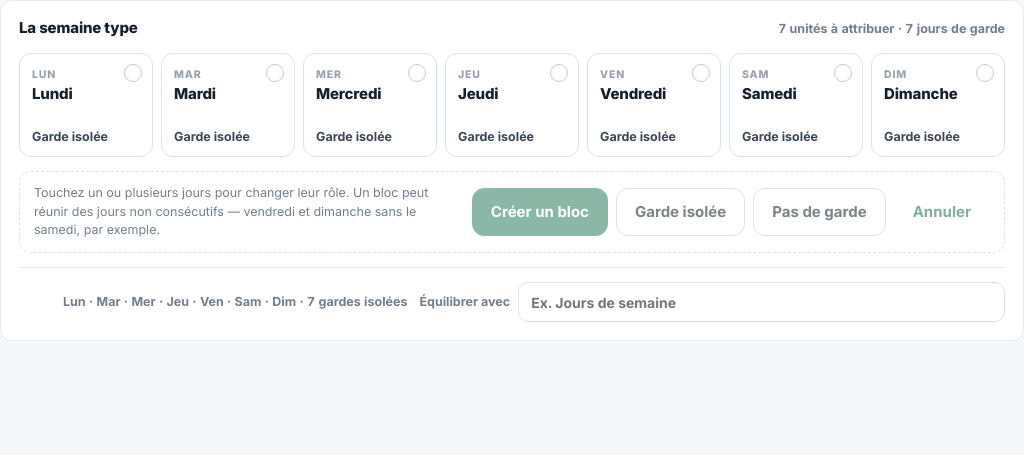
Test: WeekStructureEditor › crée un bloc vendredi + dimanche et remonte le payload
The width and height of the screenshot is (1024, 455).
Click the button "Ven Vendredi Garde isolée". click: (654,105)
box: 587,53 -> 721,157
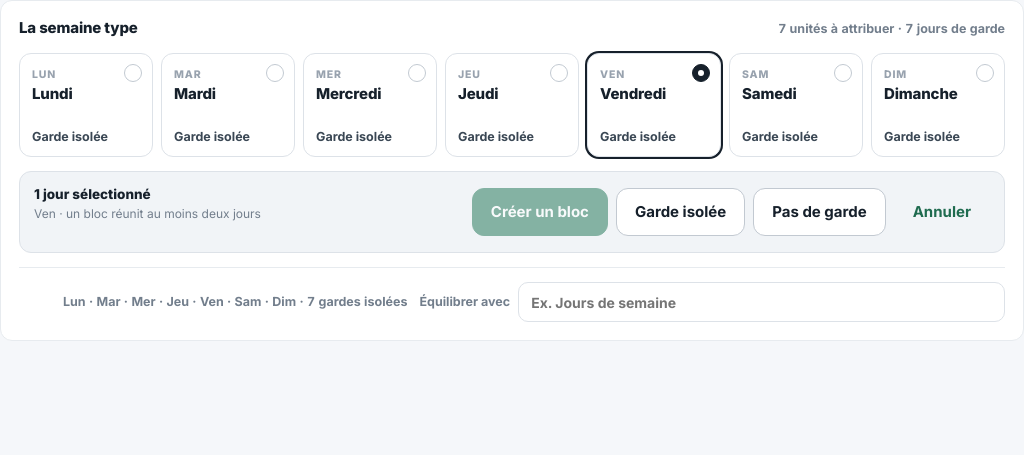
Expected: the button "Créer un bloc" is disabled, 472,188 -> 608,236
Click the button "Dim Dimanche Garde isolée". click: (938,105)
box: 871,53 -> 1005,157
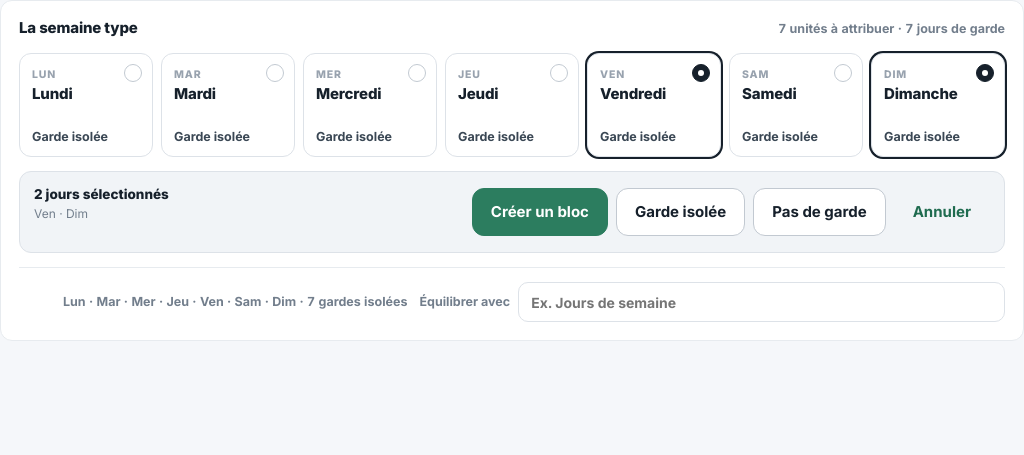
Click the button "Créer un bloc". click: (540,212)
box: 472,188 -> 608,236
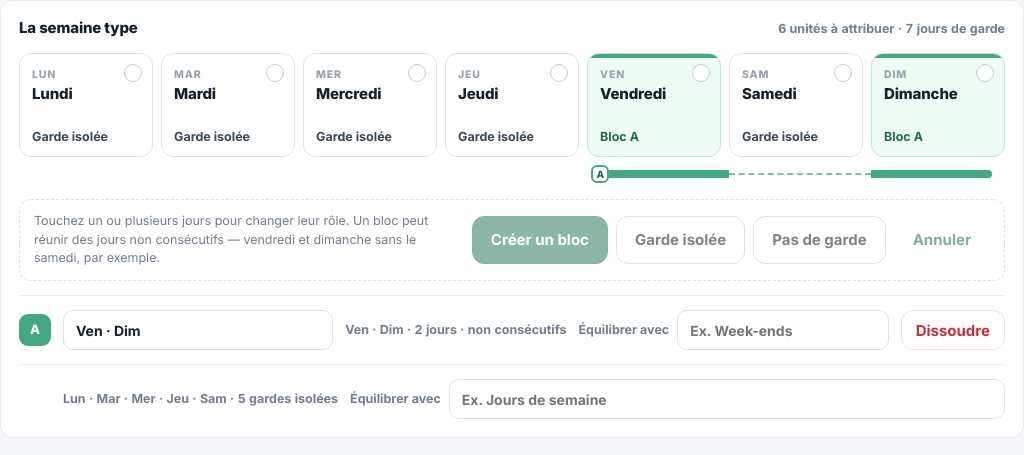
Expected: the button with aria-label "Samedi, garde isolée" is shown, 729,53 -> 863,157
Now the text "Ven · Dim · 2 jours · non consécutifs" is shown, box 345,321 -> 566,339
Now the button with aria-label "Vendredi, bloc A (Ven · Dim)" is shown, box 587,53 -> 721,157
